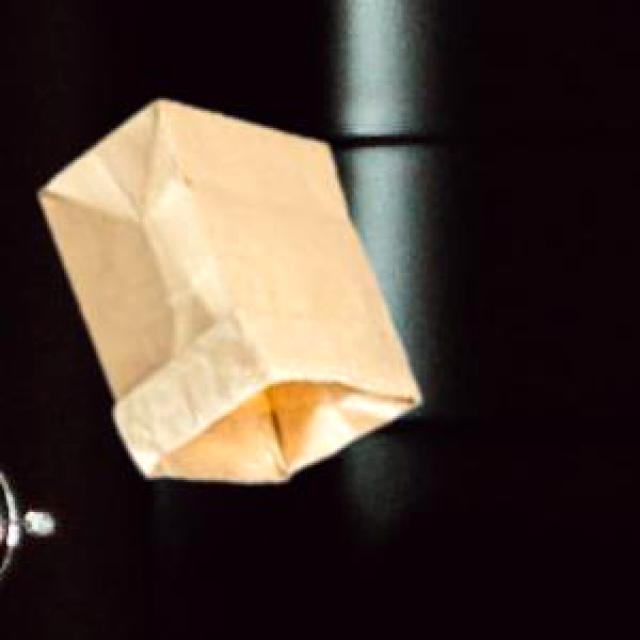Paper_Bag: (37, 97, 417, 479)
